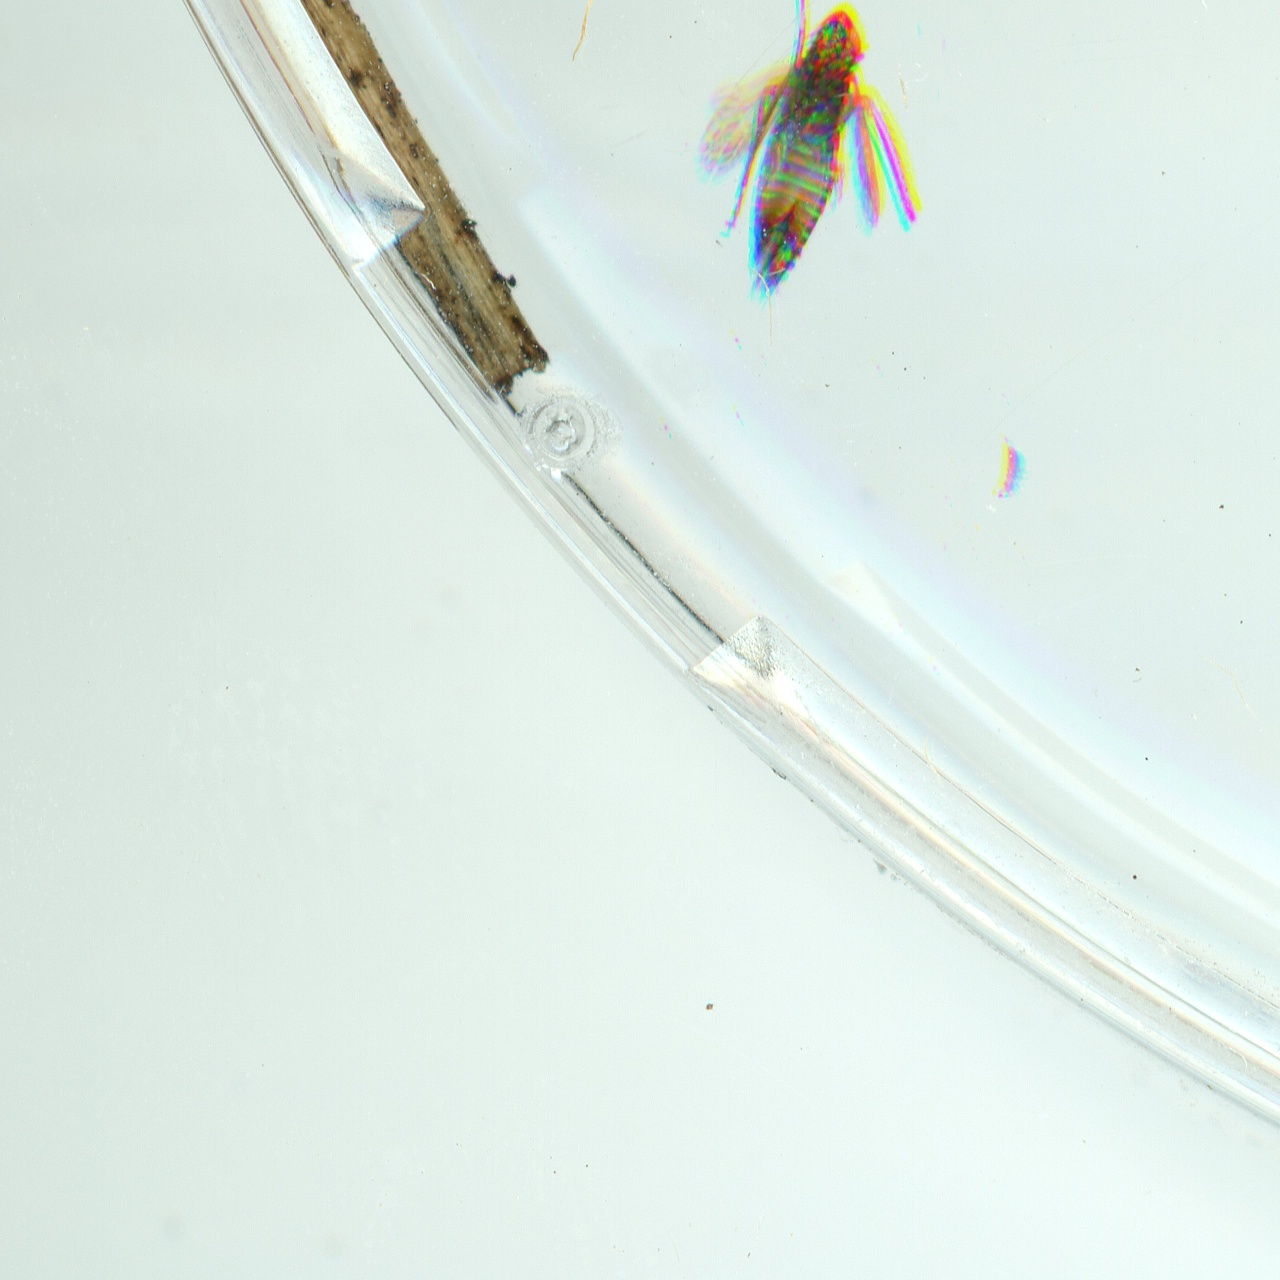arthropod: (685, 0, 933, 308), (995, 427, 1030, 509)
